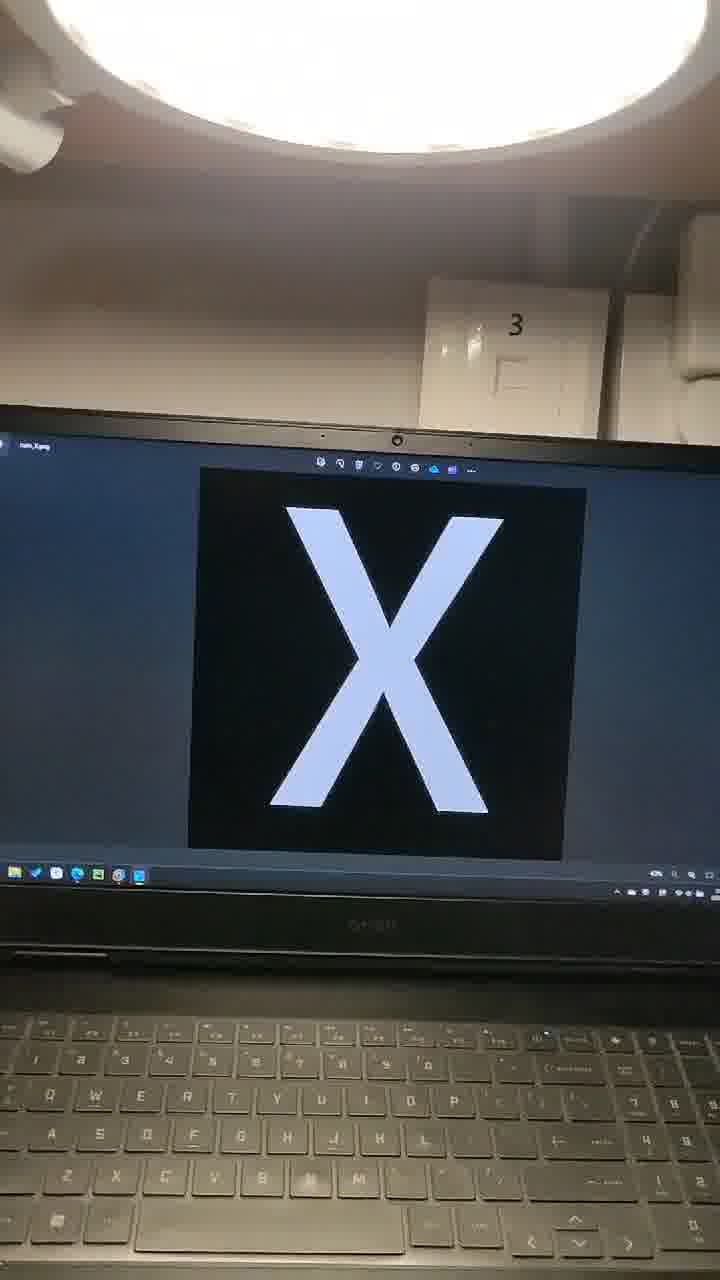X: (231, 438, 541, 841)
